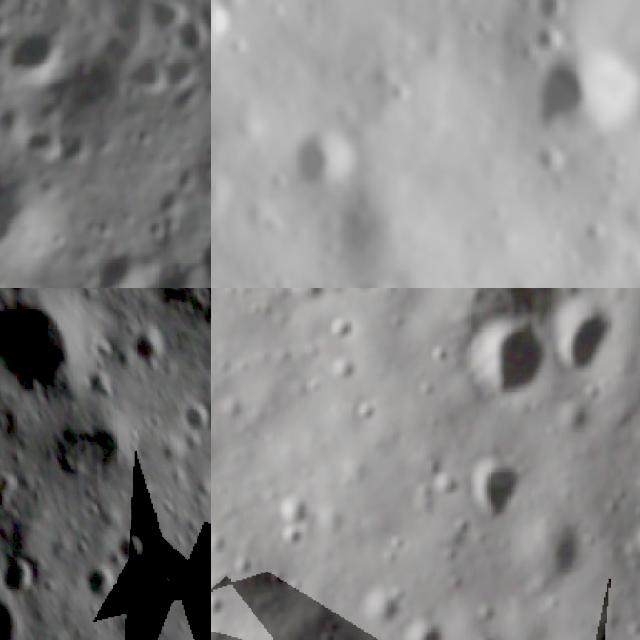crater: (520, 38, 640, 156), (271, 117, 371, 212), (0, 288, 82, 402), (455, 315, 551, 402), (542, 290, 618, 386), (514, 514, 595, 583), (462, 447, 535, 521), (0, 18, 70, 95), (76, 413, 142, 485), (119, 320, 170, 374), (92, 250, 161, 288), (356, 584, 406, 630), (0, 548, 39, 605), (267, 486, 318, 528), (520, 18, 568, 62), (20, 124, 65, 168), (78, 561, 118, 609), (121, 50, 166, 92), (324, 303, 362, 348), (160, 56, 202, 96), (272, 519, 319, 554), (335, 267, 408, 288), (523, 0, 574, 30), (323, 351, 360, 391), (397, 611, 448, 640), (172, 396, 211, 433), (430, 465, 467, 503), (117, 528, 152, 568), (0, 594, 29, 640), (281, 288, 335, 312), (348, 395, 383, 432), (211, 0, 236, 46), (424, 341, 450, 372), (211, 588, 233, 622), (0, 101, 22, 133), (523, 288, 569, 300), (415, 377, 436, 402), (340, 288, 376, 297), (476, 630, 502, 640)
